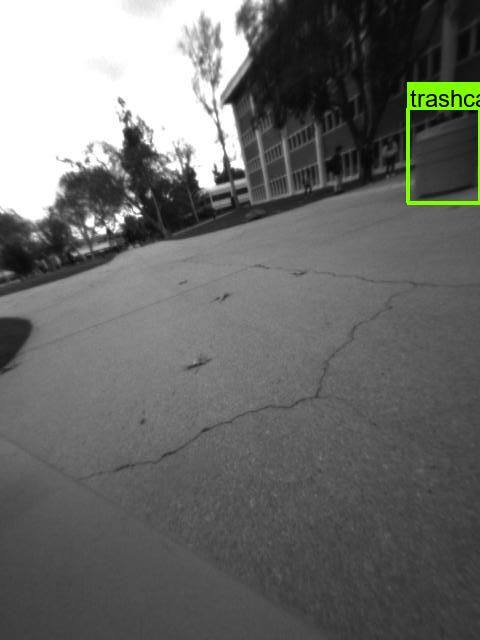trashcan: (412, 112, 480, 198)
